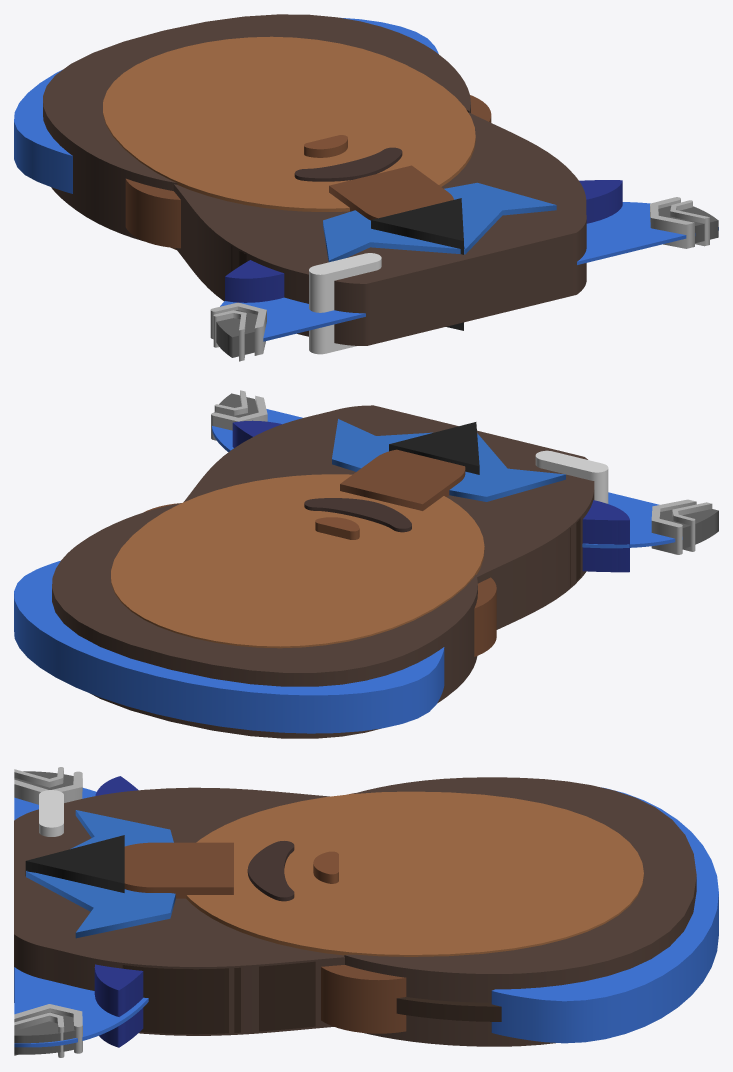
File: emoji_u1f46e_1f3fe_200d_2640.glb
3 renders of one model, top to bottom at view 1: azimuth 30°, elevation 25°; view 2: azimuth 150°, elevation 25°; view 3: azimuth 270°, elevation 25°, orthographic. The views are drawn at different scales.
Visible parts, largest first — view 1: emoji_u1f46e_1f3fe_200d_2640; view 2: emoji_u1f46e_1f3fe_200d_2640; view 3: emoji_u1f46e_1f3fe_200d_2640.
Part boxes in pixels (x1,y1,x2,y2): emoji_u1f46e_1f3fe_200d_2640: [14, 14, 718, 361]; emoji_u1f46e_1f3fe_200d_2640: [14, 390, 718, 738]; emoji_u1f46e_1f3fe_200d_2640: [14, 767, 718, 1057].
Size of the model in its own units: 0.0295 by 0.0052 by 0.0334.
